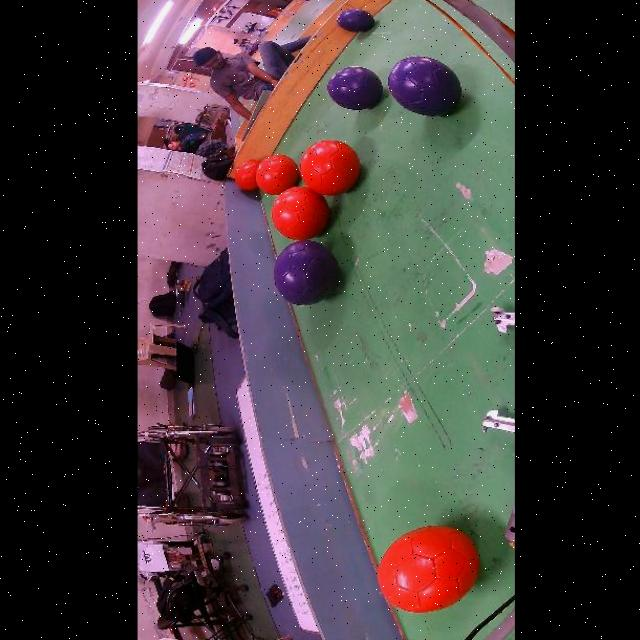P: (387, 57, 461, 116), (273, 240, 337, 306), (327, 67, 382, 110), (336, 8, 373, 32)
R: (378, 526, 479, 613), (299, 141, 360, 196), (270, 186, 328, 240), (255, 155, 298, 196), (234, 160, 259, 190)
